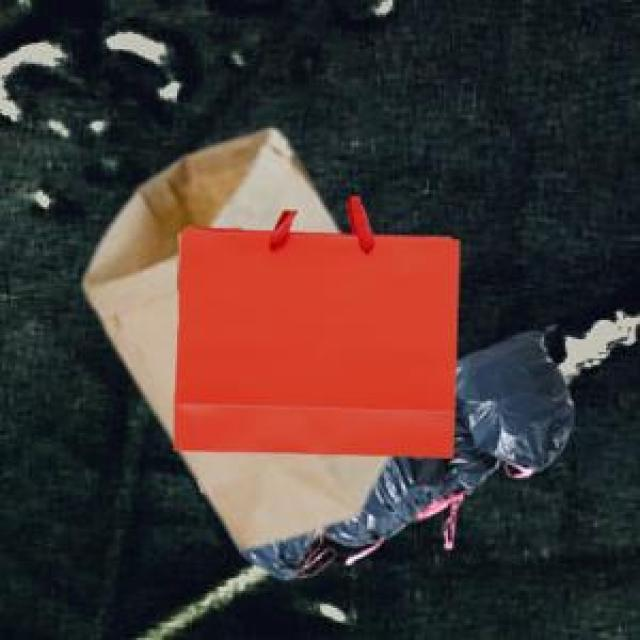miscellaneous trash: (230, 322, 570, 576)
paper: (81, 126, 386, 544), (171, 192, 453, 454)
